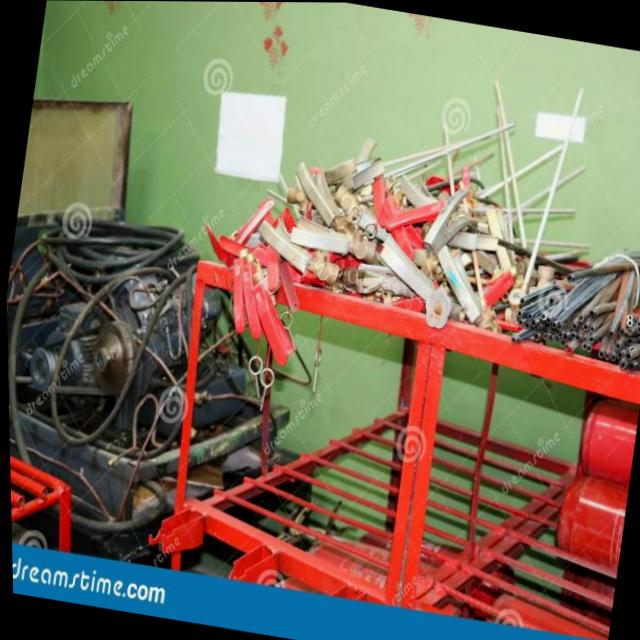FireExtinguisher: (539, 465, 630, 583), (561, 384, 640, 495)
